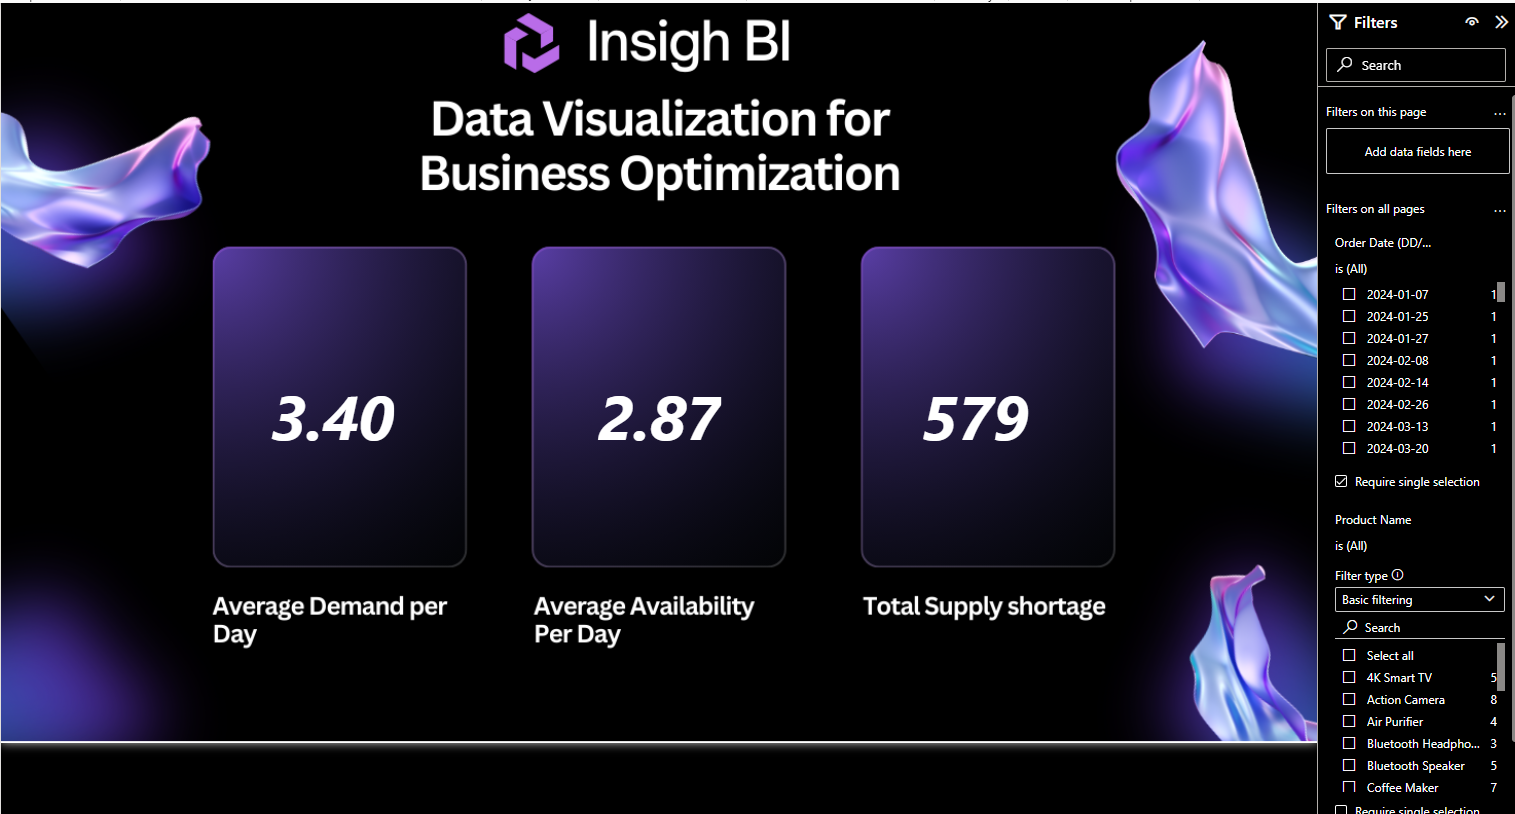

The dashboard page shown, as its layout file describes it:
{"tool":"powerbi","page":{"name":"Page 1","canvas":[1280,720],"ordinal":0},"visuals":[{"type":"cardVisual","fields":{"Data":["Measure Table.Average Demand Per Day"]},"box":[233.4,309.3,190.6,179.9],"z":0},{"type":"cardVisual","fields":{"Data":["Measure Table.Average Availability Per Day"]},"box":[551.5,309.3,190.6,179.9],"z":1000},{"type":"cardVisual","fields":{"Data":["Measure Table.Total Supply Shortage"]},"box":[866.6,309.3,190.6,179.9],"z":2000}]}

Visuals, with their boxes on the page's 1280x720 design canvas (x1, y1, x2, y2). These are canvas units, not pixel positions in the 1515x814 screenshot, which may show the page scaled, cropped or inside an application window:
cardVisual - Measure Table.Average Demand Per Day: x1=233 y1=309 x2=424 y2=489
cardVisual - Measure Table.Average Availability Per Day: x1=552 y1=309 x2=742 y2=489
cardVisual - Measure Table.Total Supply Shortage: x1=867 y1=309 x2=1057 y2=489
